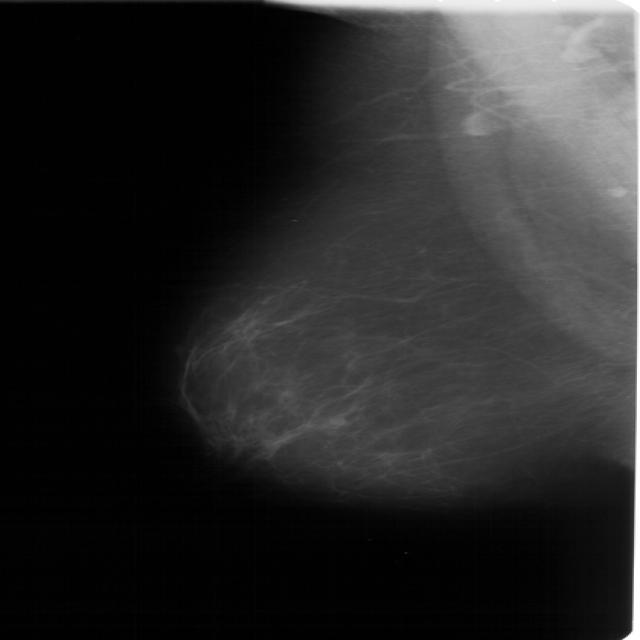tumour: (326, 414, 346, 426)
